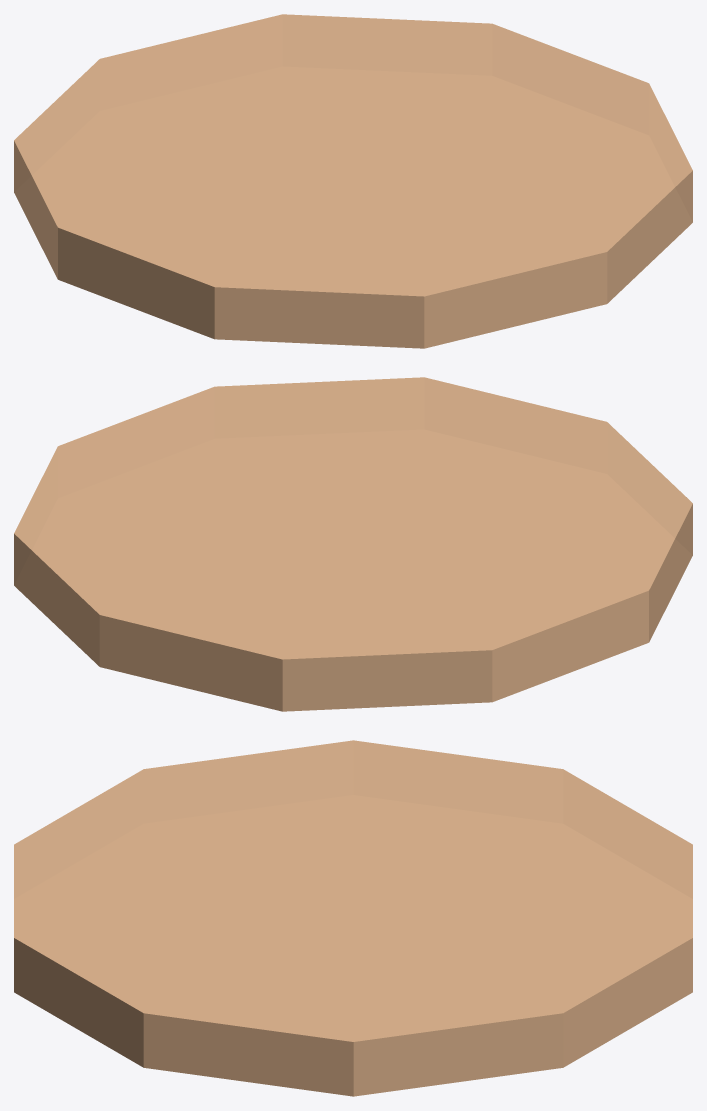
Rendered from Mess5.fbx.
3 renders of one model, top to bottom at view 1: azimuth 30°, elevation 25°; view 2: azimuth 150°, elevation 25°; view 3: azimuth 270°, elevation 25°, orthographic. The views are drawn at different scales.
Visible parts, largest first — view 1: pasted__pasted__pasted__pCylinder1; view 2: pasted__pasted__pasted__pCylinder1; view 3: pasted__pasted__pasted__pCylinder1.
Part boxes in pixels (left/top/right/bottom): pasted__pasted__pasted__pCylinder1: left=14, top=14, right=692, bottom=348; pasted__pasted__pasted__pCylinder1: left=14, top=377, right=692, bottom=711; pasted__pasted__pasted__pCylinder1: left=14, top=740, right=692, bottom=1096.
Size of the model in its own units: 10.49 by 0.8843 by 9.98.
